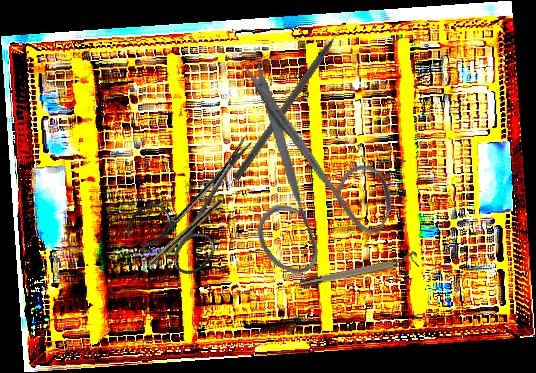Fixation Ring: (298, 250, 420, 290)
Handpiece: (131, 198, 222, 282)
Hook Surgical: (231, 11, 356, 183)
Iris Scissors: (170, 53, 426, 300), (121, 112, 282, 284)
